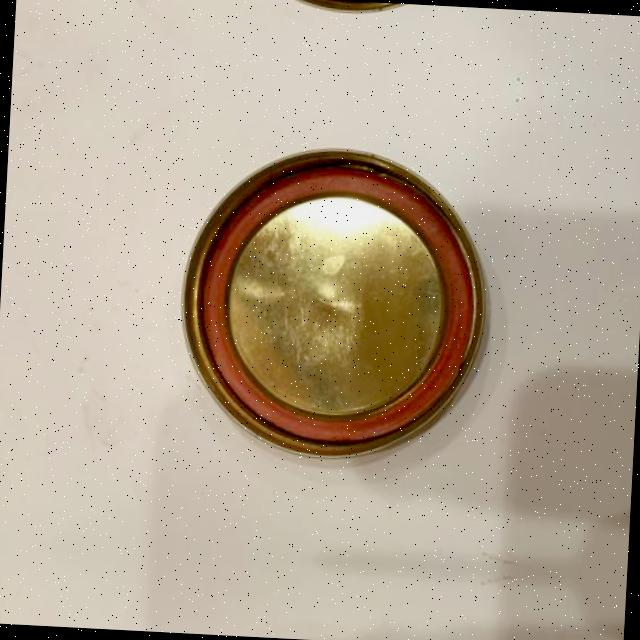Metal: (130, 108, 530, 493), (152, 0, 536, 52), (121, 626, 503, 640)
